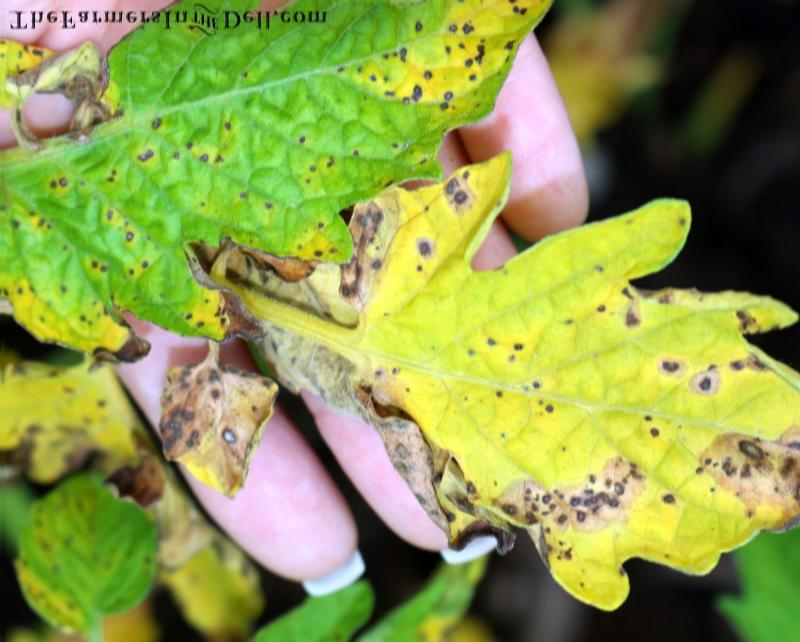Tomato Septoria leaf spot: (325, 191, 762, 600), (23, 0, 550, 331)
